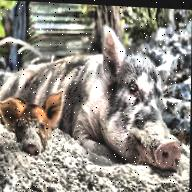boar: (32, 29, 191, 171), (1, 91, 70, 160)
